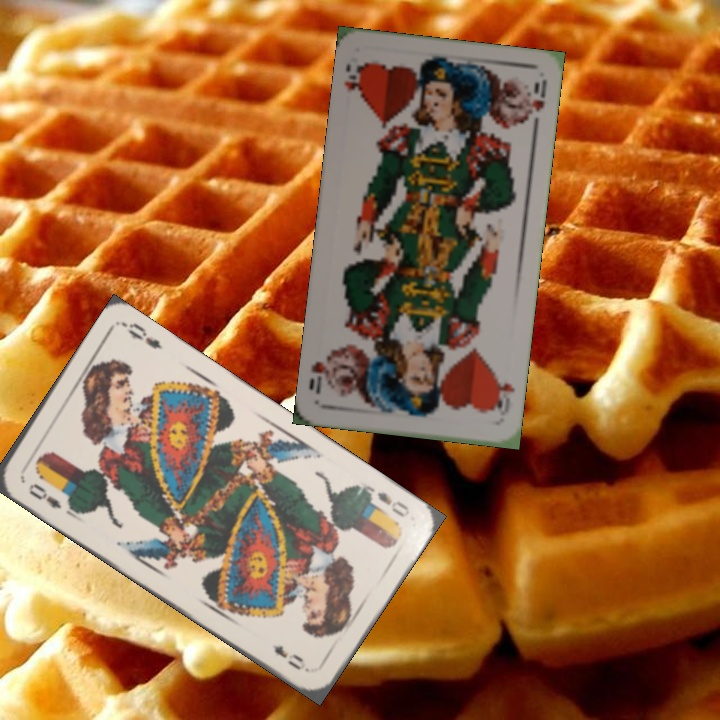EO: (361, 482, 412, 520), (24, 479, 64, 512)
HO: (488, 372, 518, 413), (339, 58, 368, 100)
